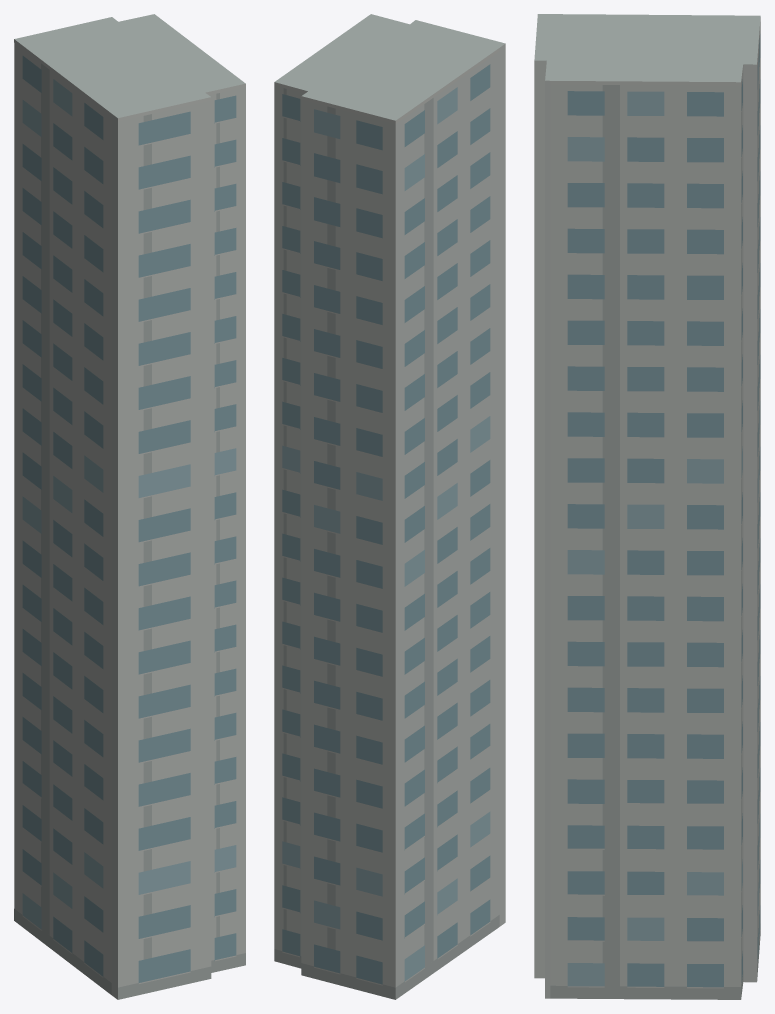
The model's file is survey-upis-32714839.glb.
3 views of the same model, side by side, from view 1: azimuth 30°, elevation 25°; view 2: azimuth 150°, elevation 25°; view 3: azimuth 270°, elevation 25° (orthographic). The views are drawn at different scales.
Visible parts, largest first — view 1: survey-upis-32714839.tmp; view 2: survey-upis-32714839.tmp; view 3: survey-upis-32714839.tmp.
Boxes of the visible parts, box(x1,y1,x2,y2) form: survey-upis-32714839.tmp: box(14, 14, 245, 999); survey-upis-32714839.tmp: box(274, 14, 505, 999); survey-upis-32714839.tmp: box(534, 14, 760, 999).
Bounding box in the file's own units: 9.73 × 61 × 13.64.
